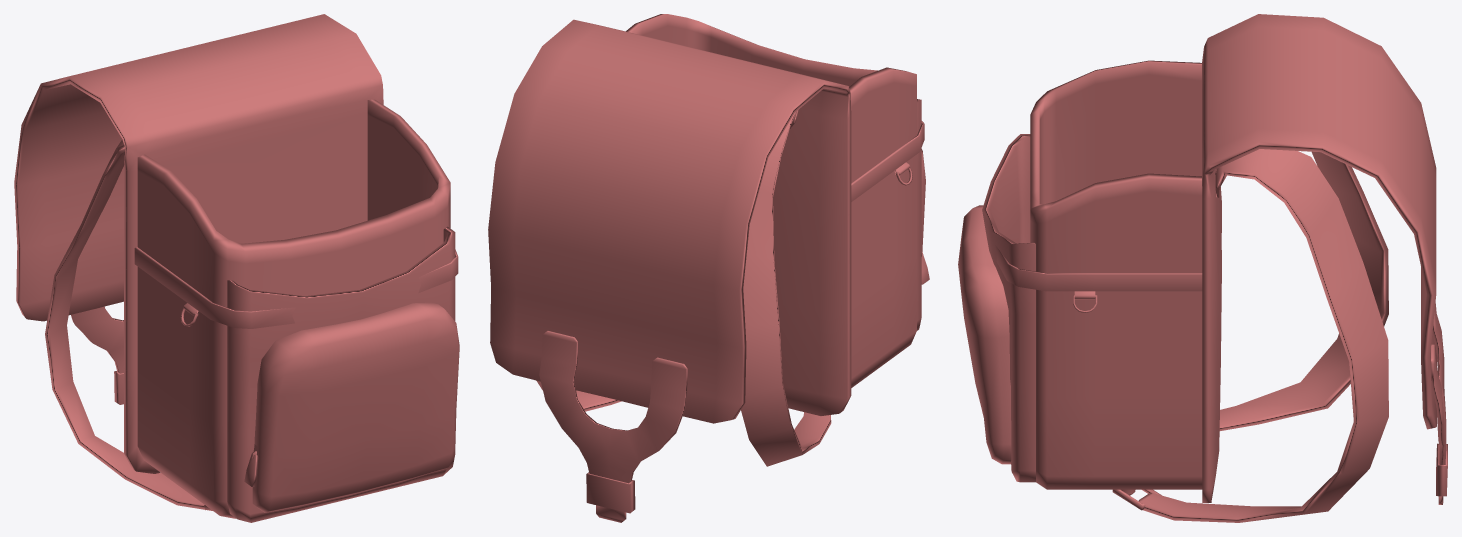
Rendered from backpack2.fbx.
The picture shows the model from 3 angles, left to right: view 1: azimuth 30°, elevation 25°; view 2: azimuth 150°, elevation 25°; view 3: azimuth 270°, elevation 25°; orthographic projection. The views are drawn at different scales.
Parts seen in each view (by area): view 1: School Backpack; view 2: School Backpack; view 3: School Backpack.
Boxes of the visible parts, x1=… form: School Backpack: x1=14, y1=14, x2=459, y2=522; School Backpack: x1=488, y1=14, x2=929, y2=522; School Backpack: x1=958, y1=14, x2=1447, y2=522.
Size of the model in its own units: 26.73 by 38.97 by 41.03.
